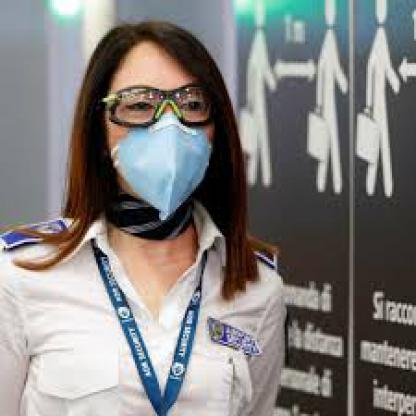Wearing_Mask: (111, 63, 216, 218)
